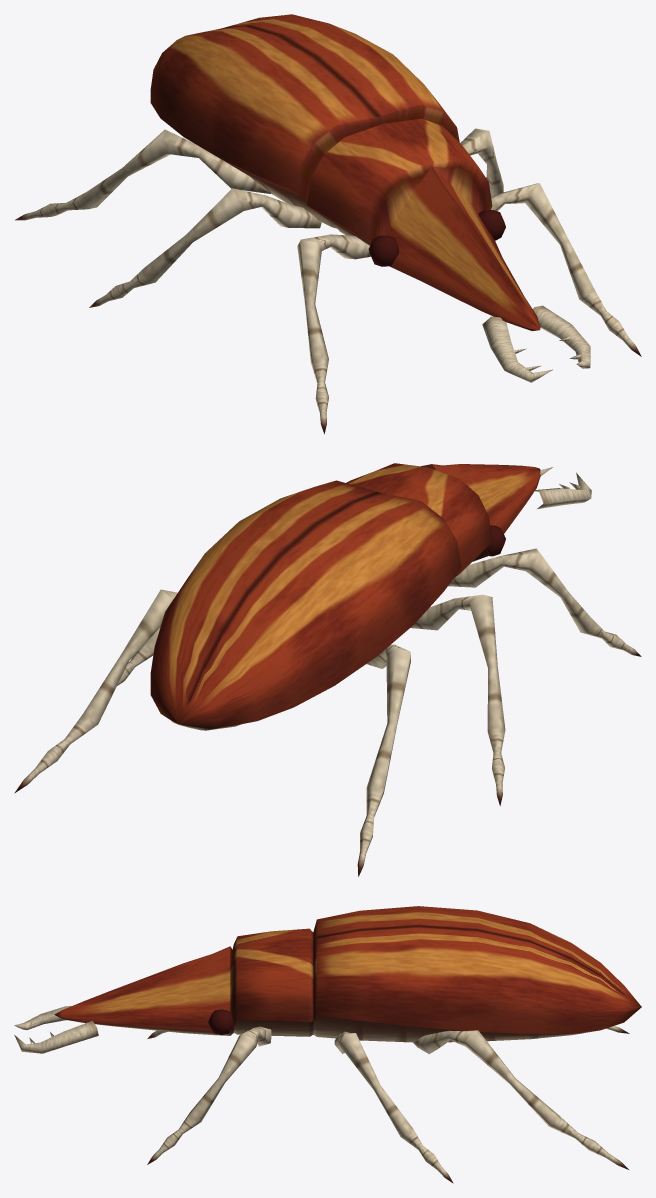
Rendered from ribmite.glb.
3 renders of one model, top to bottom at view 1: azimuth 30°, elevation 25°; view 2: azimuth 150°, elevation 25°; view 3: azimuth 270°, elevation 25°, orthographic. The views are drawn at different scales.
Visible parts, largest first — view 1: ribmite; view 2: ribmite; view 3: ribmite.
Boxes of the visible parts, box(x1,y1,x2,y2) form: ribmite: box(15, 14, 641, 434); ribmite: box(14, 463, 641, 876); ribmite: box(14, 906, 641, 1183).
Bounding box in the file's own units: 0.184 × 0.0926 × 0.299.
1 material, 1 textured.
